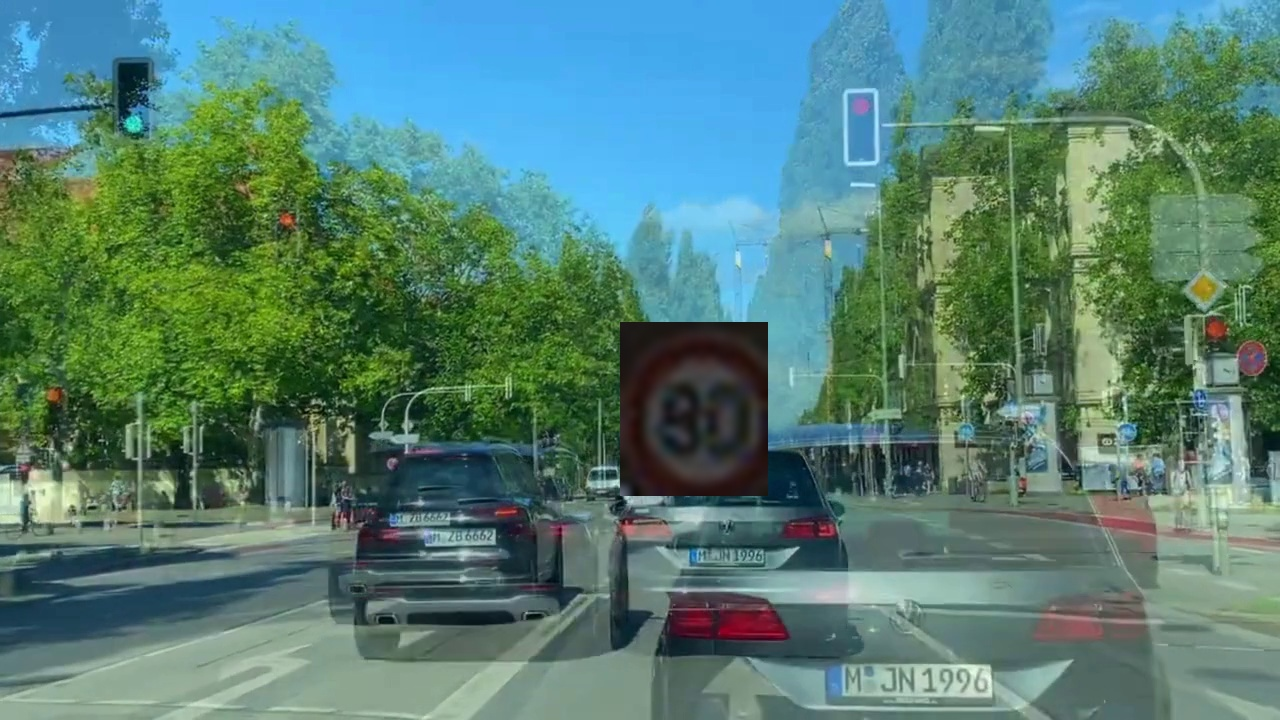Speed 80: (620, 322, 768, 496)
